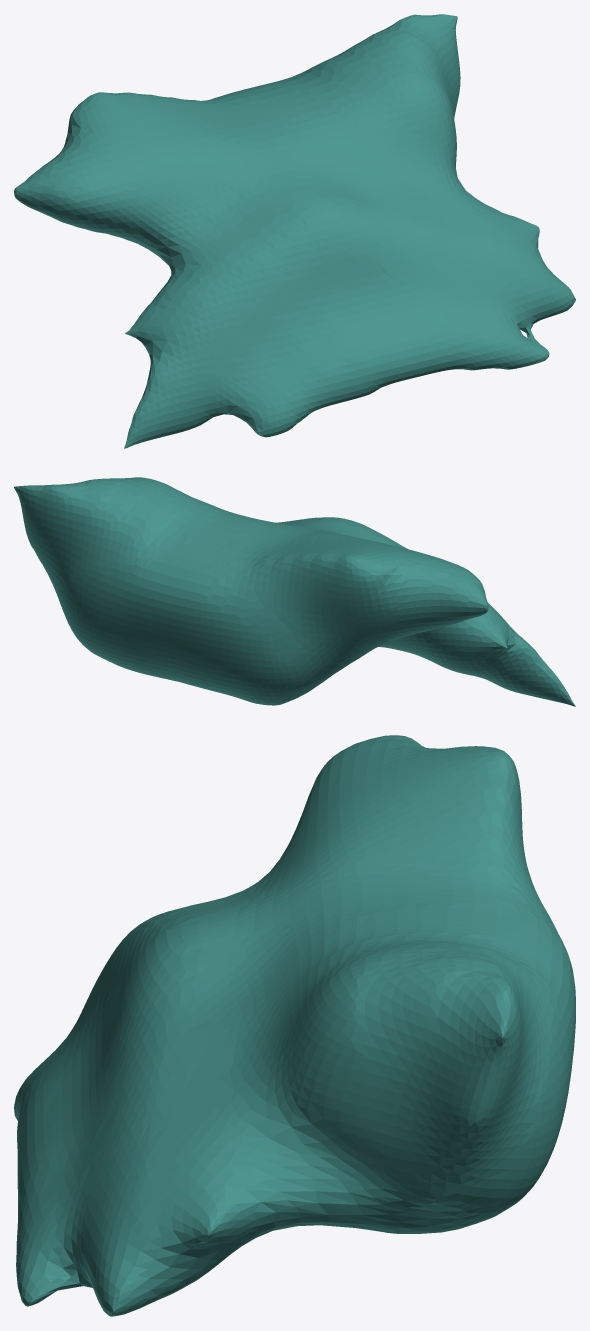
The picture shows the model from 3 angles, top to bottom: view 1: azimuth 30°, elevation 25°; view 2: azimuth 150°, elevation 25°; view 3: azimuth 270°, elevation 25°; orthographic projection. The views are drawn at different scales.
Parts seen in each view (by area): view 1: geometry_0; view 2: geometry_0; view 3: geometry_0.
Part boxes in pixels (x1,y1,x2,y2): geometry_0: [14, 14, 575, 448]; geometry_0: [14, 477, 575, 706]; geometry_0: [14, 735, 575, 1316].
Bounding box in the file's own units: 0.5532 × 0.258 × 0.374.
